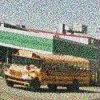buses: (4, 50, 92, 94)
